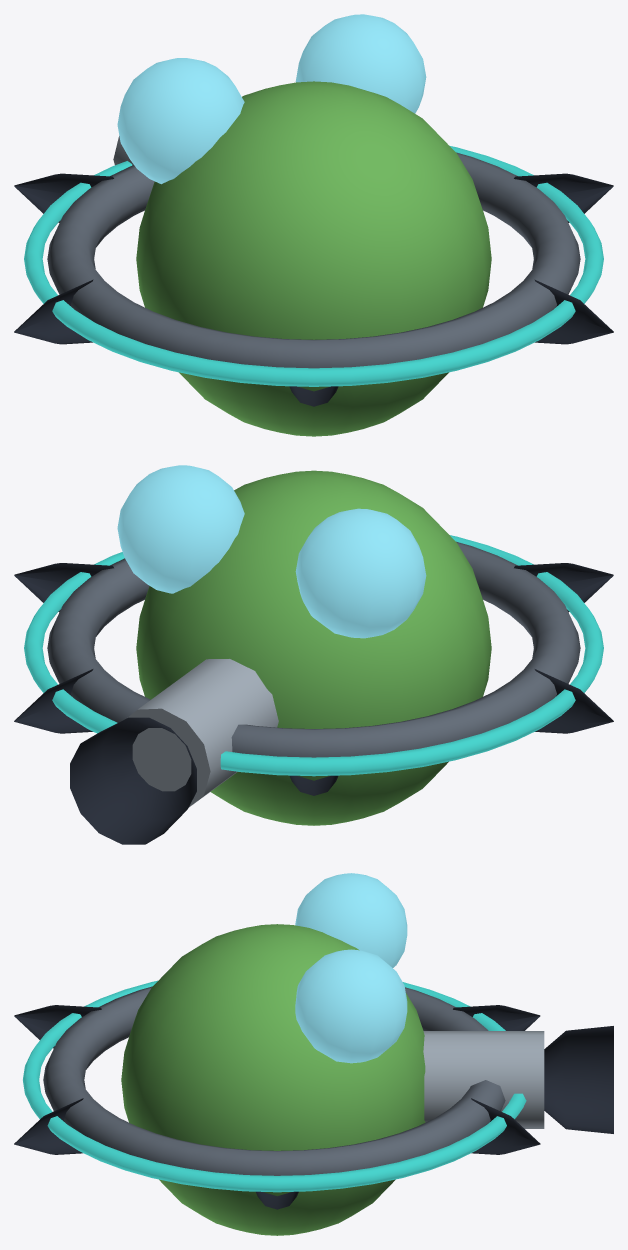
The model's file is terraformer.glb.
3 views of the same model, one above another, from view 1: azimuth 30°, elevation 25°; view 2: azimuth 150°, elevation 25°; view 3: azimuth 270°, elevation 25° (orthographic). The views are drawn at different scales.
Parts seen in each view (by area): view 1: terraformer; view 2: terraformer; view 3: terraformer.
Part boxes in pixels (bbox=[...]): terraformer: bbox=[14, 14, 613, 436]; terraformer: bbox=[14, 465, 613, 844]; terraformer: bbox=[14, 873, 613, 1235].
Size of the model in its own units: 1.48 by 0.82 by 1.46.
